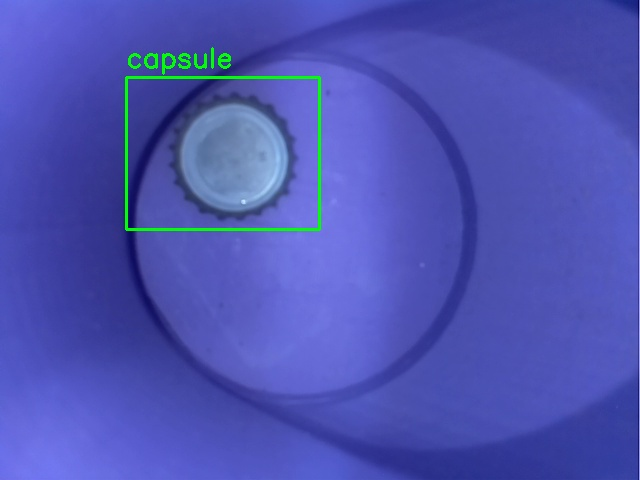capsule: (126, 77, 319, 229)
